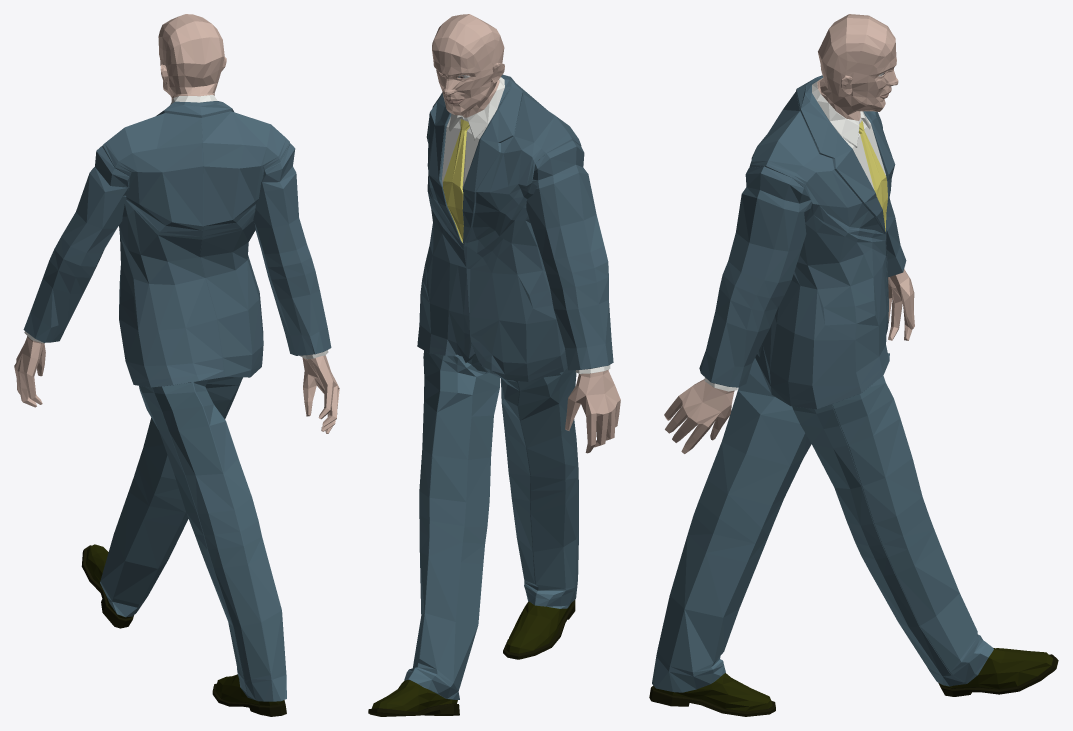
File: person2.fbx
3 views of the same model, side by side, from view 1: azimuth 30°, elevation 25°; view 2: azimuth 150°, elevation 25°; view 3: azimuth 270°, elevation 25° (orthographic). The views are drawn at different scales.
Parts seen in each view (by area): view 1: Chest:1.001; view 2: Chest:1.001; view 3: Chest:1.001.
Part boxes in pixels (x1,y1,x2,y2): Chest:1.001: [14, 14, 339, 716]; Chest:1.001: [368, 14, 620, 716]; Chest:1.001: [649, 14, 1058, 716].
Size of the model in its own units: 0.8173 by 1.15 by 2.15.
